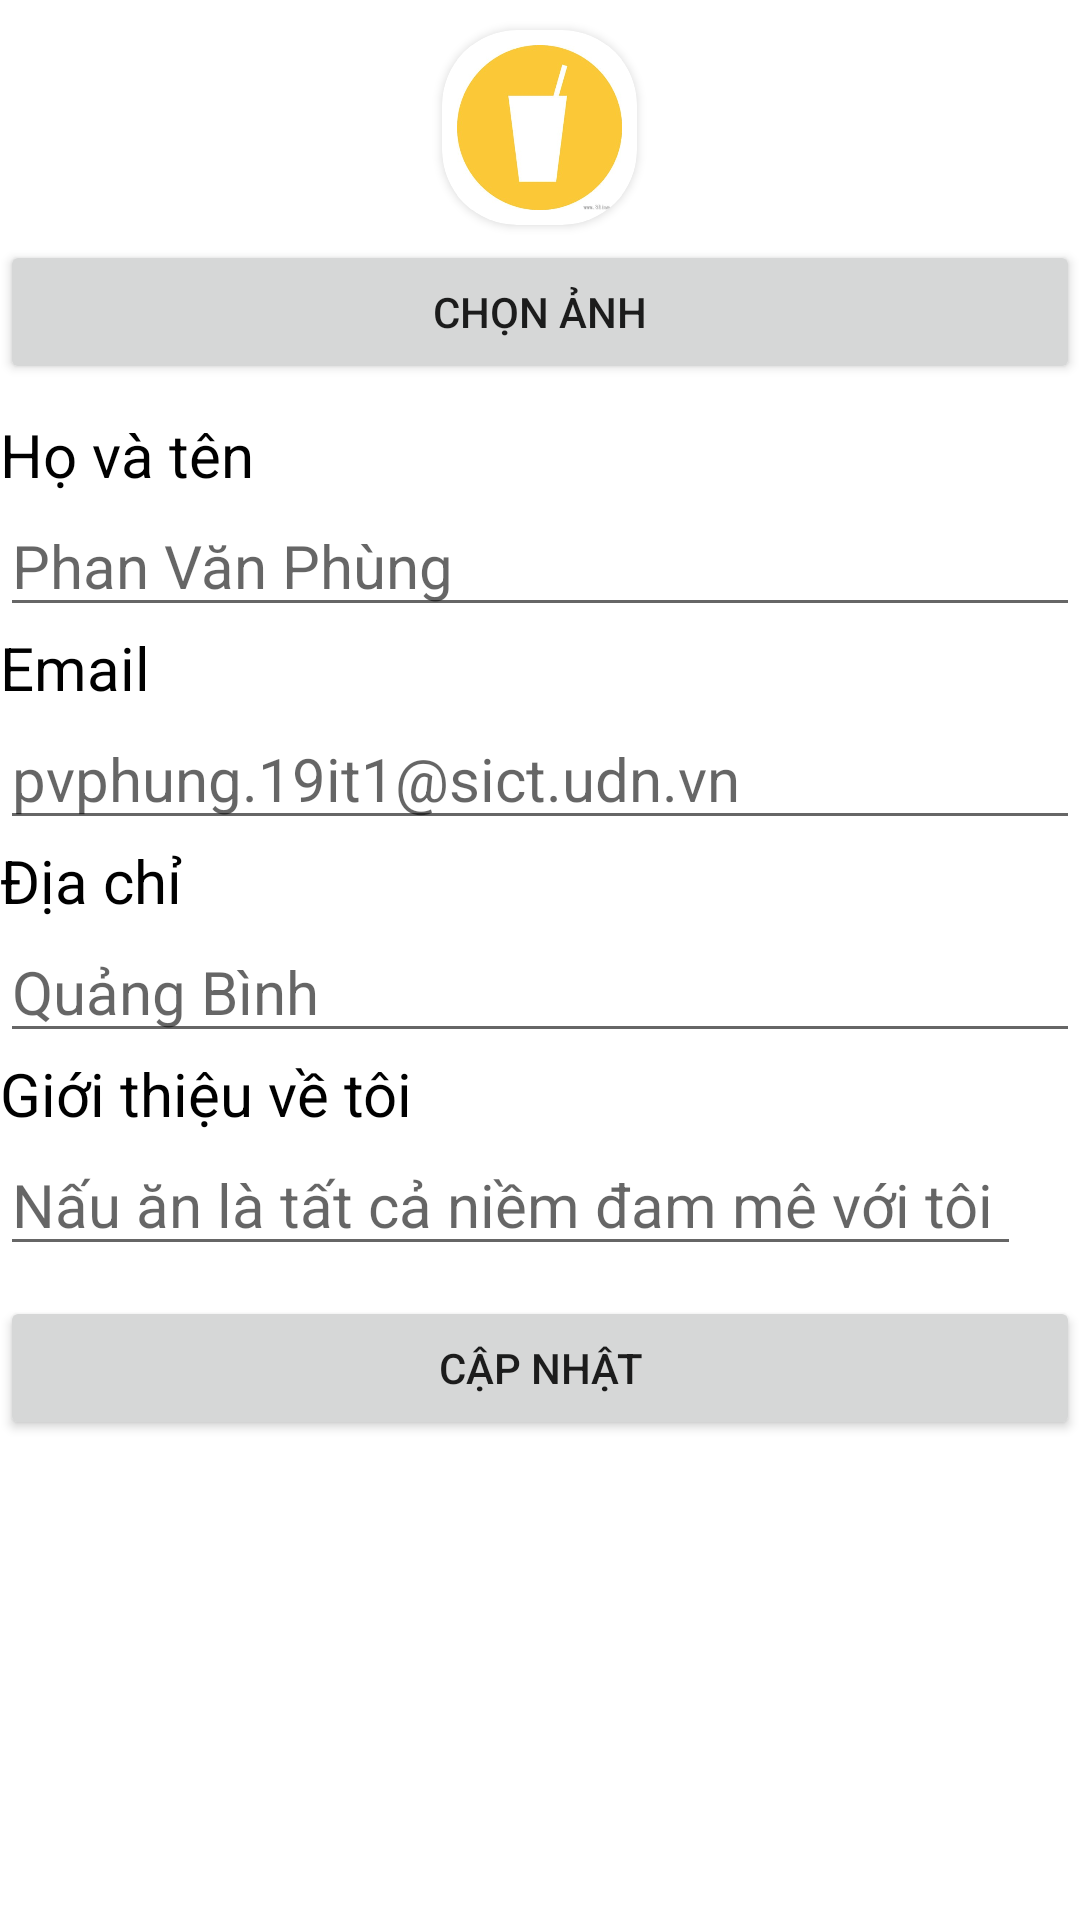

Named icons in this screenshot (1080 × 1920) and their bounding boxes, (x1, y1, x2, y2):
douong: (457, 45, 622, 210)
